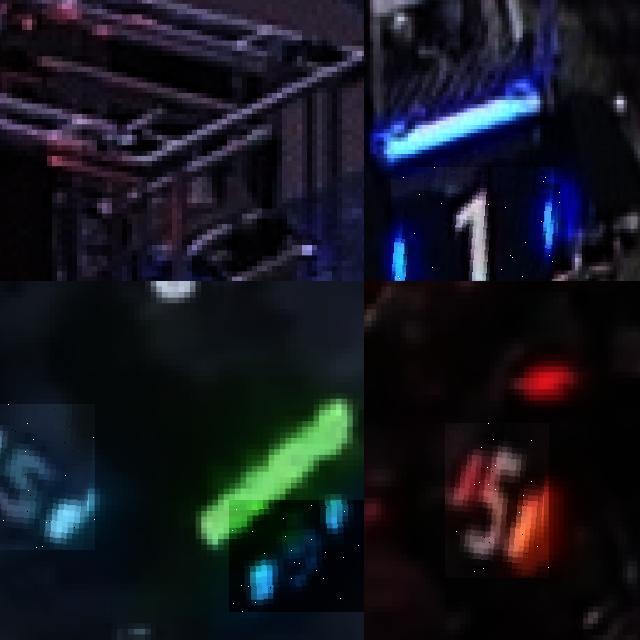B1: (390, 166, 561, 281)
B5: (229, 499, 364, 612), (0, 404, 94, 550)
R5: (445, 423, 549, 578)
